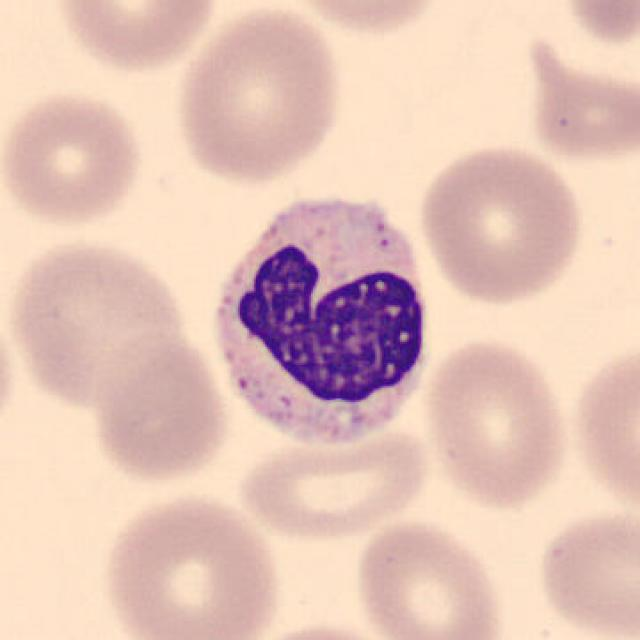Neutrophil: (197, 183, 443, 462)
RBC: (170, 2, 348, 188), (4, 235, 190, 409), (412, 139, 588, 307), (96, 486, 286, 640), (420, 333, 574, 513), (233, 414, 435, 546), (85, 328, 233, 488), (0, 84, 148, 232), (351, 515, 508, 640), (518, 31, 638, 168), (532, 504, 638, 640), (565, 337, 640, 520), (50, 0, 222, 76), (277, 0, 450, 39), (551, 0, 640, 51), (227, 619, 409, 640), (0, 294, 21, 453)
